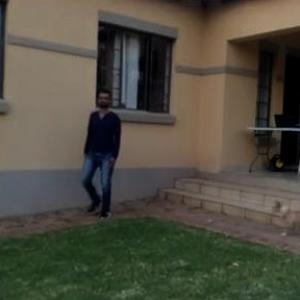follow: (90, 82, 132, 225)
